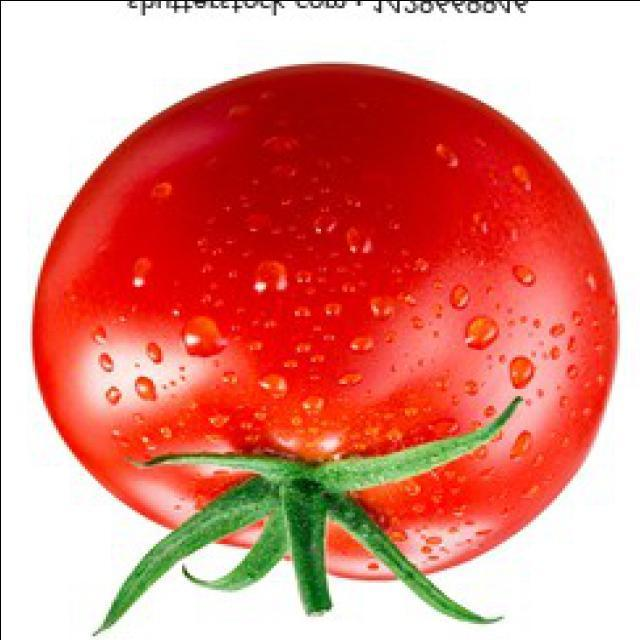Tomato: (29, 63, 622, 634)
